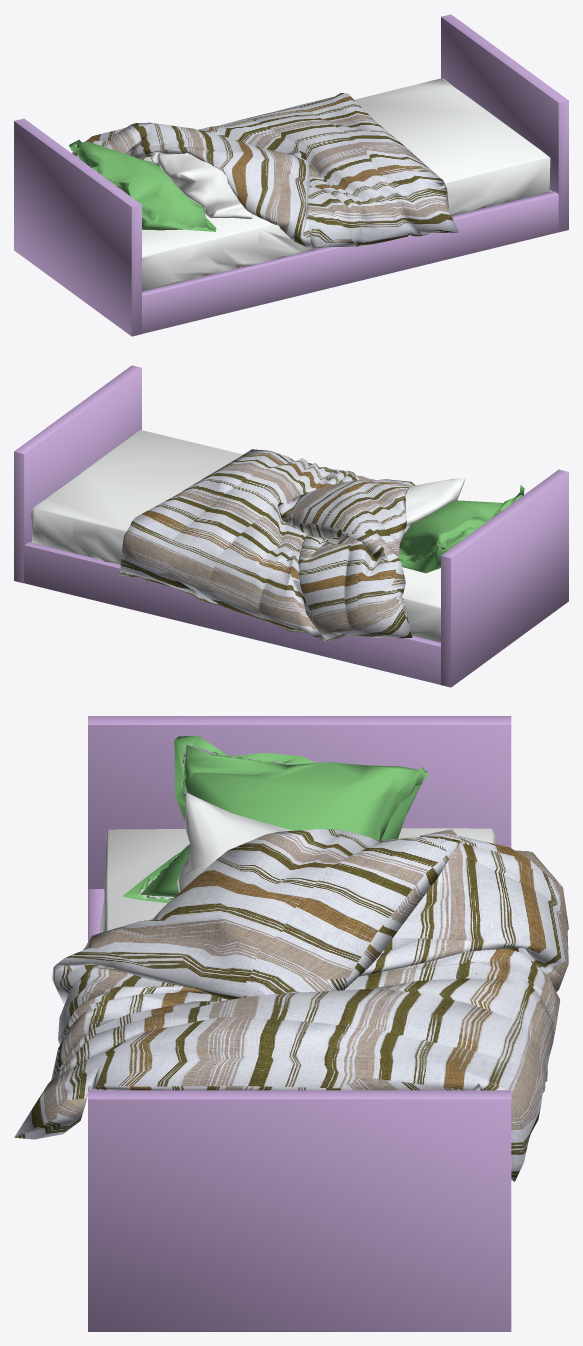
The model's file is main_bed2.fbx.
The picture shows the model from 3 angles, top to bottom: view 1: azimuth 30°, elevation 25°; view 2: azimuth 150°, elevation 25°; view 3: azimuth 270°, elevation 25°; orthographic projection. The views are drawn at different scales.
Parts seen in each view (by area): view 1: Bed, odealo, prostin, Pillows2, Pillows1; view 2: Bed, odealo, prostin, Pillows2, Pillows1; view 3: Bed, odealo, Pillows2, prostin, Pillows1.
Boxes of the visible parts, x1,y1,x2,y2 form: Bed: (14,14,568,336); odealo: (72,92,458,248); prostin: (142,78,550,291); Pillows2: (69,140,216,231); Pillows1: (150,152,252,219); Bed: (14,365,568,687); odealo: (119,449,415,641); prostin: (31,430,440,642); Pillows2: (398,485,524,573); Pillows1: (324,478,465,540); Bed: (88,716,511,1331); odealo: (14,829,568,1181); Pillows2: (122,736,427,903); prostin: (99,828,497,1090); Pillows1: (150,792,292,920).
Size of the model in its own units: 283 by 80.08 by 173.
